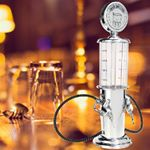cups: (25, 59, 66, 127)
